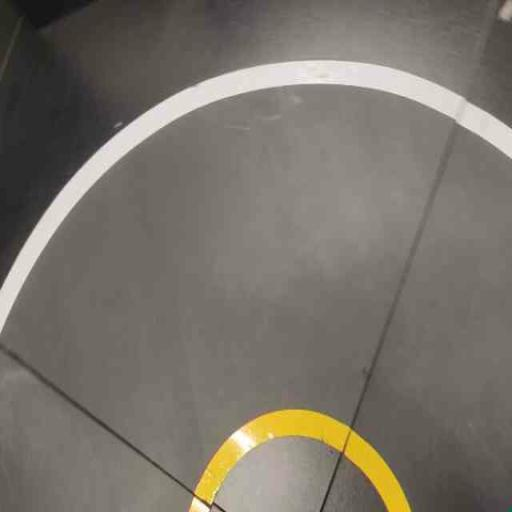left: (0, 13, 487, 506)
